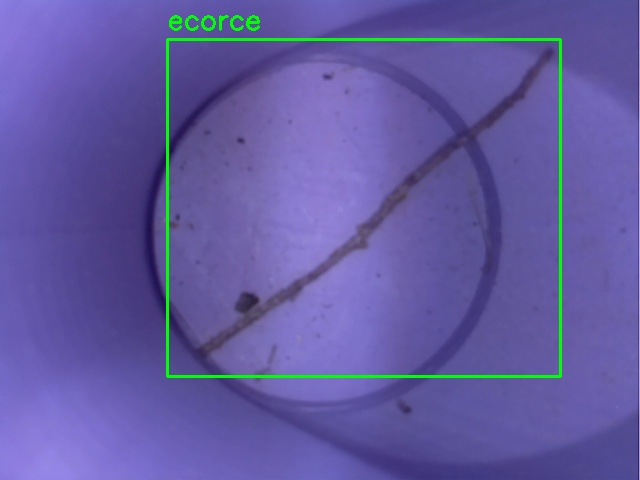ecorce: (167, 39, 560, 376)
